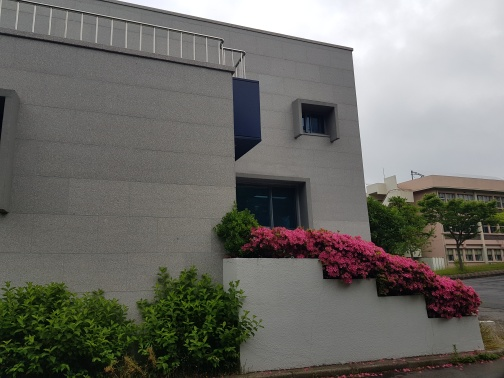College of Social Sciences: (1, 4, 390, 353)
